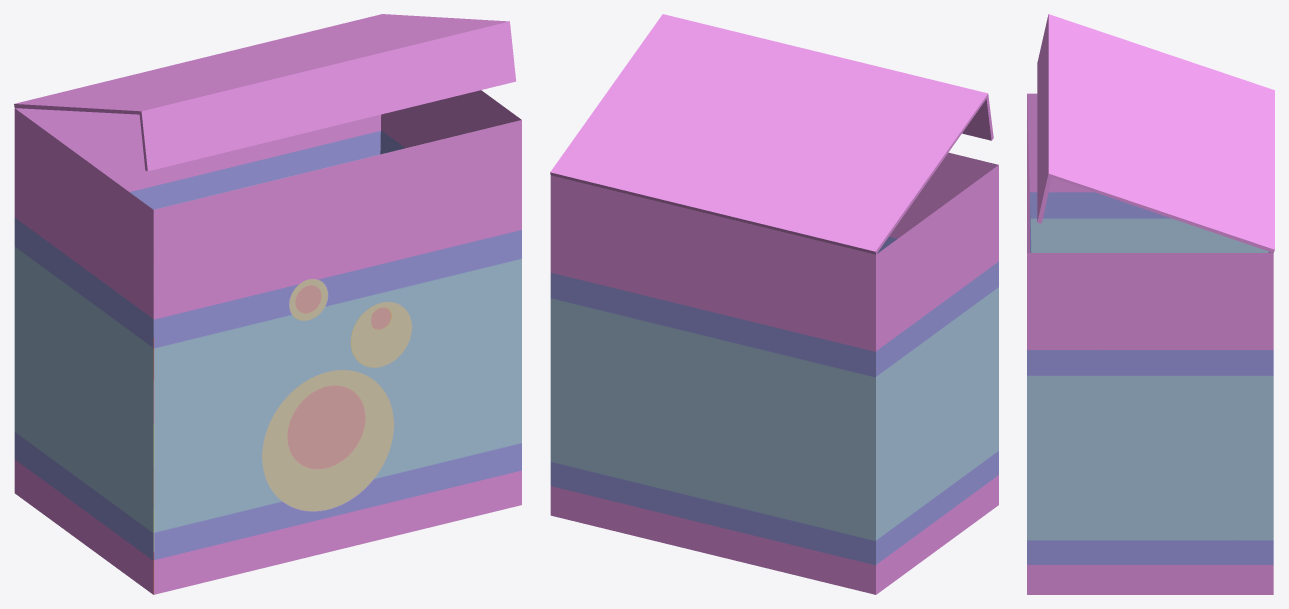
File: F_CerealBox_01.fbx
3 views of the same model, side by side, from view 1: azimuth 30°, elevation 25°; view 2: azimuth 150°, elevation 25°; view 3: azimuth 270°, elevation 25° (orthographic). The views are drawn at different scales.
Parts seen in each view (by area): view 1: F_CerealBox_01; view 2: F_CerealBox_01; view 3: F_CerealBox_01.
Boxes of the visible parts, left/top/right/bottom form: F_CerealBox_01: left=14, top=14, right=521, bottom=594; F_CerealBox_01: left=550, top=14, right=998, bottom=594; F_CerealBox_01: left=1027, top=14, right=1274, bottom=594.
Size of the model in its own units: 61.13 by 75.29 by 40.1.
